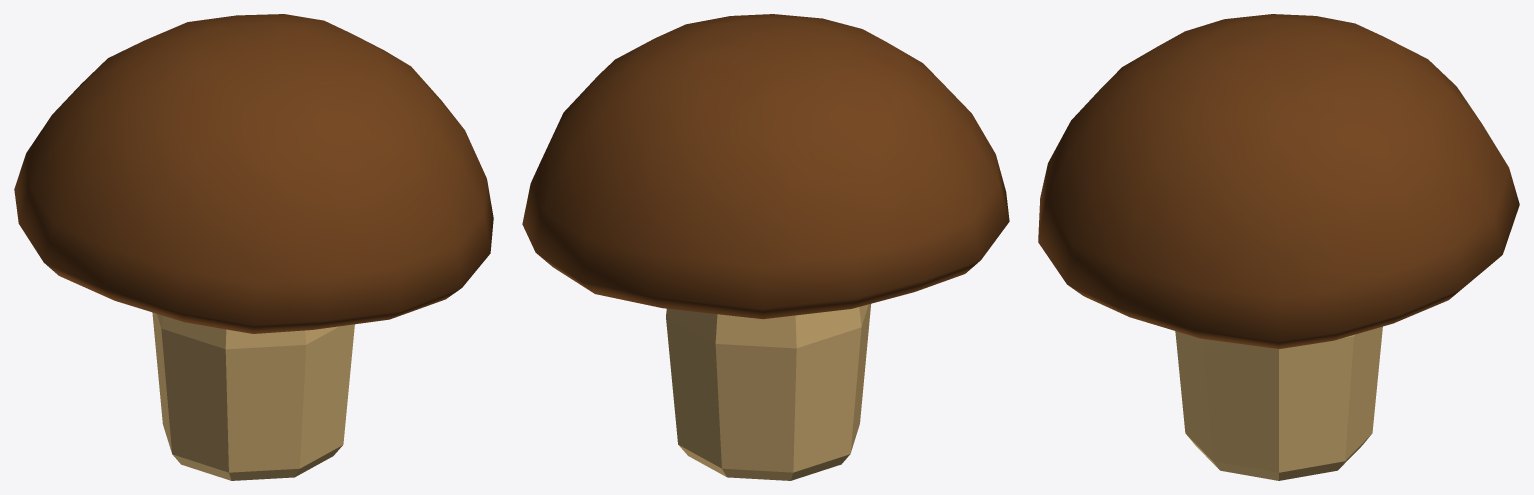
Rendered from mushroom.01.glb.
3 renders of one model, left to right at view 1: azimuth 30°, elevation 25°; view 2: azimuth 150°, elevation 25°; view 3: azimuth 270°, elevation 25°, orthographic.
Parts seen in each view (by area): view 1: Sphere.003; view 2: Sphere.003; view 3: Sphere.003.
Boxes of the visible parts, x1,y1,x2,y2 form: Sphere.003: (14, 14, 493, 480); Sphere.003: (522, 14, 1009, 480); Sphere.003: (1038, 14, 1519, 480).
Bounding box in the file's own units: 0.2314 × 0.2089 × 0.2281.
Materials: 1 (1 with a texture image).
